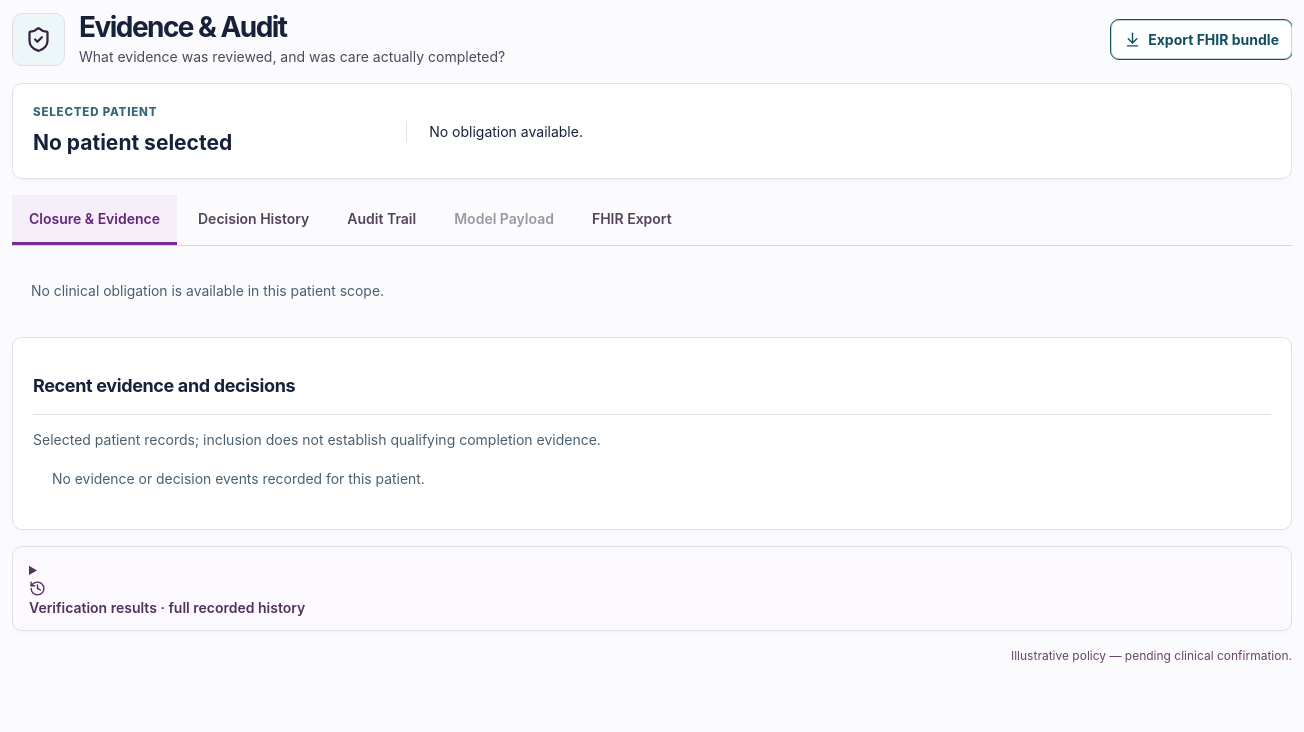
candidate audit renders the stored relevance rule version and demo date
Step 1. Click the tab "Audit Trail" → (382, 220), box [330,195,433,245]
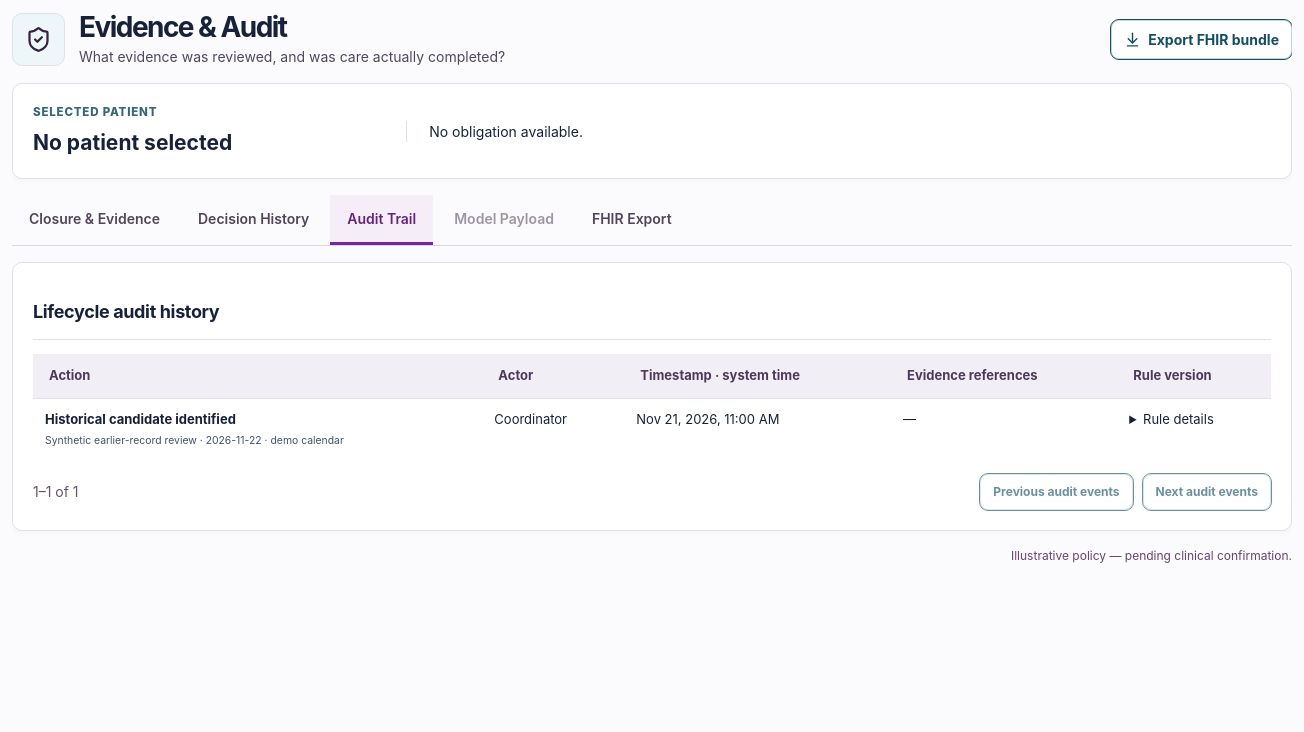
Check: the text "· 2026-11-22 · demo calendar" is shown, box [197,434,344,447]
